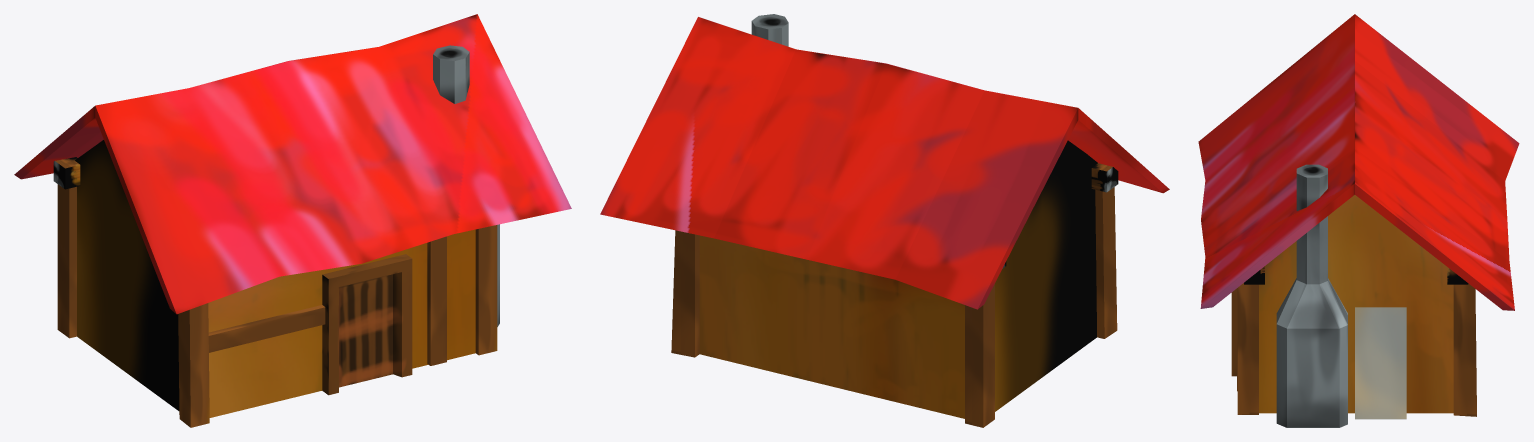
The model's file is maison.obj.
The picture shows the model from 3 angles, left to right: view 1: azimuth 30°, elevation 25°; view 2: azimuth 150°, elevation 25°; view 3: azimuth 270°, elevation 25°; orthographic projection. The views are drawn at different scales.
Visible parts, largest first — view 1: toit, Cube, Cube.002, Cube.001, Cube.005, Cube.003, Cube.004; view 2: toit, Cube, Cube.001, Cube.003, Cube.004; view 3: toit, Cube, Cube.003, Cube.001, Cube.006, Cube.002, Cube.004.
Part boxes in pixels (x1,y1,x2,y2): toit: [14, 14, 571, 314]; Cube: [75, 140, 475, 417]; Cube.002: [322, 254, 412, 395]; Cube.001: [57, 184, 497, 427]; Cube.005: [208, 236, 446, 365]; Cube.003: [433, 45, 499, 326]; Cube.004: [53, 157, 80, 189]; toit: [600, 17, 1169, 309]; Cube: [699, 140, 1097, 418]; Cube.001: [671, 187, 1117, 427]; Cube.003: [751, 14, 788, 46]; Cube.004: [1002, 163, 1118, 268]; toit: [1198, 14, 1519, 310]; Cube: [1259, 195, 1453, 413]; Cube.003: [1276, 164, 1347, 427]; Cube.001: [1237, 283, 1476, 416]; Cube.006: [1355, 307, 1406, 419]; Cube.002: [1231, 288, 1236, 376]; Cube.004: [1244, 266, 1468, 284].
Size of the model in its own units: 7.16 by 4.82 by 5.55.
Materials: 1 (1 with a texture image).
